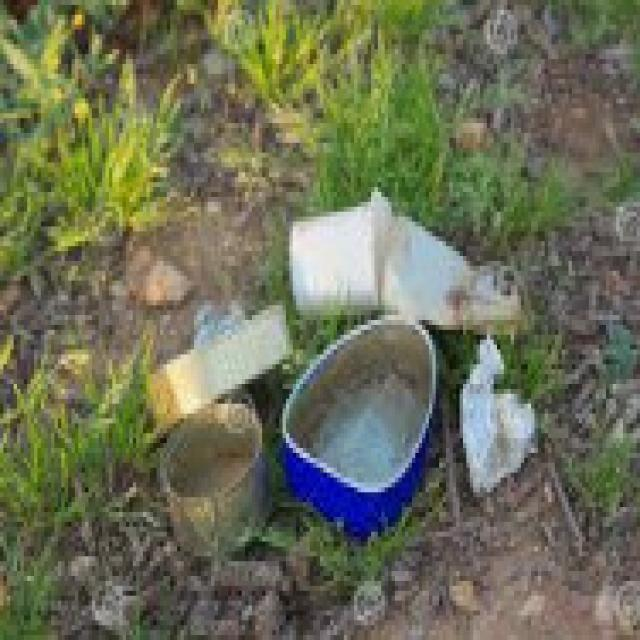clothes: (280, 310, 438, 532), (160, 396, 269, 554)
food: (458, 330, 546, 498)
leaf: (272, 177, 538, 350)
trash: (146, 301, 293, 418)
